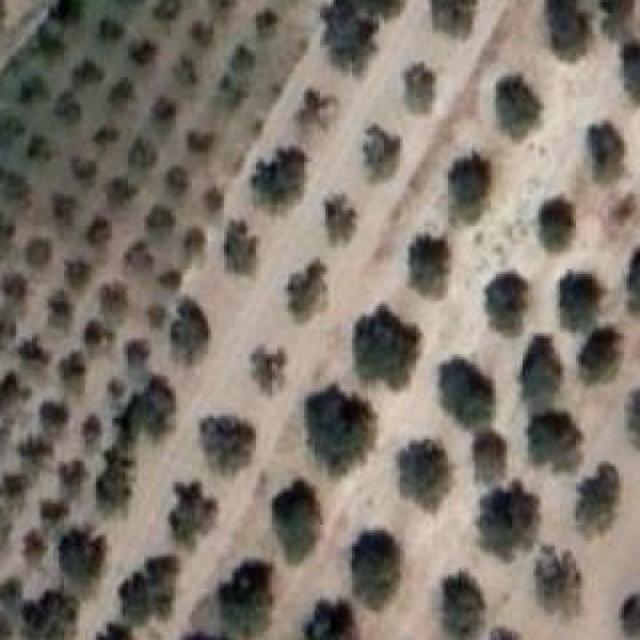Tree: (341, 304, 427, 388), (305, 379, 376, 469), (320, 0, 402, 74), (100, 546, 173, 626), (566, 458, 632, 545), (198, 554, 269, 634), (468, 482, 539, 558), (390, 434, 456, 511), (342, 528, 406, 607), (194, 404, 261, 479), (432, 363, 503, 433), (540, 269, 608, 340), (484, 67, 550, 139), (248, 141, 312, 211), (518, 402, 582, 469), (272, 482, 327, 558), (524, 192, 584, 258), (438, 570, 491, 640), (166, 477, 216, 549), (470, 268, 528, 330), (534, 0, 592, 61), (576, 118, 629, 184), (416, 0, 485, 49), (448, 151, 496, 221), (408, 232, 456, 298), (396, 61, 446, 124), (165, 304, 210, 374), (54, 525, 104, 588), (286, 82, 336, 144), (528, 552, 578, 611), (580, 325, 630, 383), (21, 589, 77, 640), (217, 216, 264, 276), (361, 123, 408, 181), (280, 261, 326, 318), (525, 342, 565, 404), (302, 596, 358, 640), (30, 393, 77, 442), (100, 450, 139, 509), (321, 197, 363, 251), (136, 375, 178, 429), (244, 347, 290, 393), (12, 427, 58, 472), (467, 429, 509, 477), (614, 37, 640, 114), (614, 381, 640, 453), (29, 23, 69, 68), (9, 64, 48, 107), (623, 239, 640, 328), (611, 589, 640, 640), (57, 256, 98, 292), (0, 568, 34, 611), (119, 336, 157, 374), (70, 55, 109, 92), (55, 453, 93, 490), (12, 532, 50, 569), (46, 293, 82, 331), (92, 279, 128, 316), (3, 370, 38, 408), (96, 615, 149, 640), (0, 464, 34, 502), (0, 171, 32, 210), (58, 352, 90, 391), (178, 226, 208, 267), (0, 109, 29, 151), (248, 2, 282, 37), (22, 239, 56, 274), (17, 333, 50, 369), (1, 269, 34, 305), (194, 178, 226, 215), (56, 93, 85, 133), (64, 154, 99, 187), (40, 493, 72, 529), (78, 308, 109, 344), (162, 56, 196, 88), (158, 171, 192, 203), (140, 204, 176, 234), (132, 135, 160, 173), (233, 47, 263, 82), (598, 0, 635, 28), (51, 189, 77, 228), (83, 407, 109, 446), (84, 214, 114, 246), (124, 240, 154, 271), (105, 176, 135, 207), (150, 0, 189, 23), (100, 16, 128, 48), (0, 399, 14, 463), (50, 0, 85, 25), (143, 92, 173, 121), (111, 80, 141, 109), (0, 495, 14, 556), (133, 36, 157, 70), (160, 268, 187, 298), (96, 122, 123, 152), (140, 296, 167, 326), (179, 22, 205, 53), (0, 213, 19, 255), (0, 306, 19, 347), (214, 80, 238, 112), (173, 631, 253, 640), (101, 376, 128, 401), (480, 626, 528, 640), (29, 136, 53, 162), (185, 125, 208, 152), (0, 608, 19, 640), (0, 0, 14, 34), (213, 0, 242, 16), (117, 0, 146, 4)
